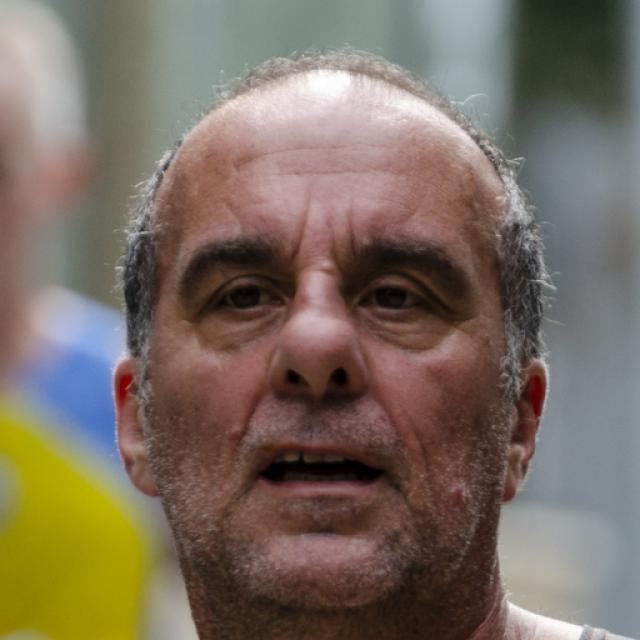Acne: (308, 256, 338, 281), (222, 423, 248, 443)
Wrinkle: (232, 137, 397, 171), (267, 162, 417, 181)
